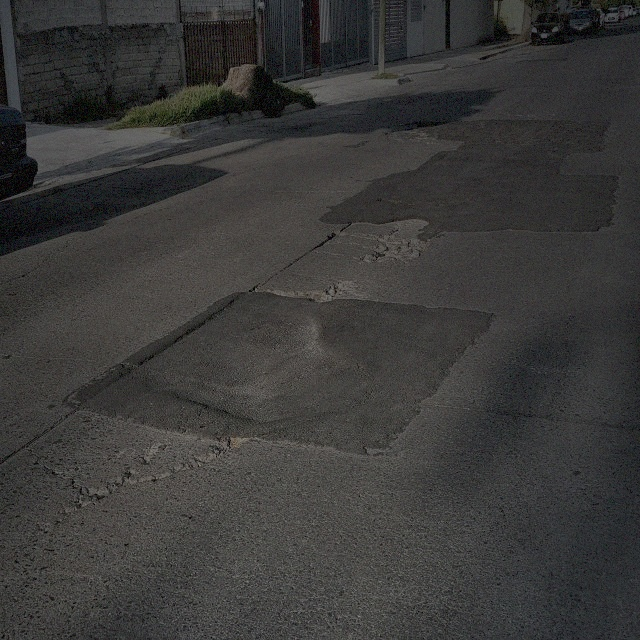pothole: (77, 476, 112, 512), (265, 286, 319, 305), (314, 280, 352, 302), (221, 432, 249, 453)
